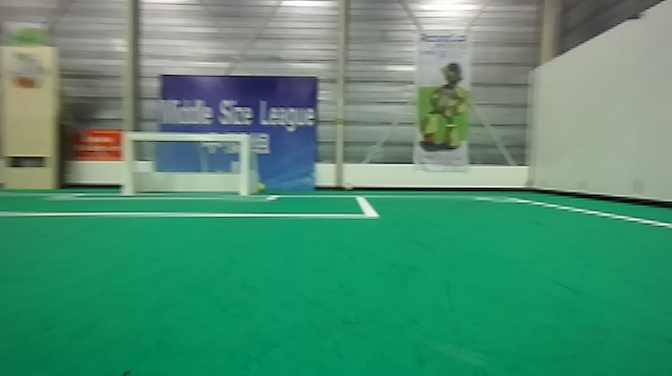ball: (252, 177, 264, 192)
goalpost: (116, 129, 145, 196), (234, 130, 254, 200)
